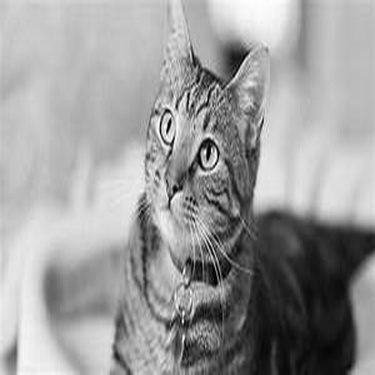cat: (107, 4, 355, 366)
